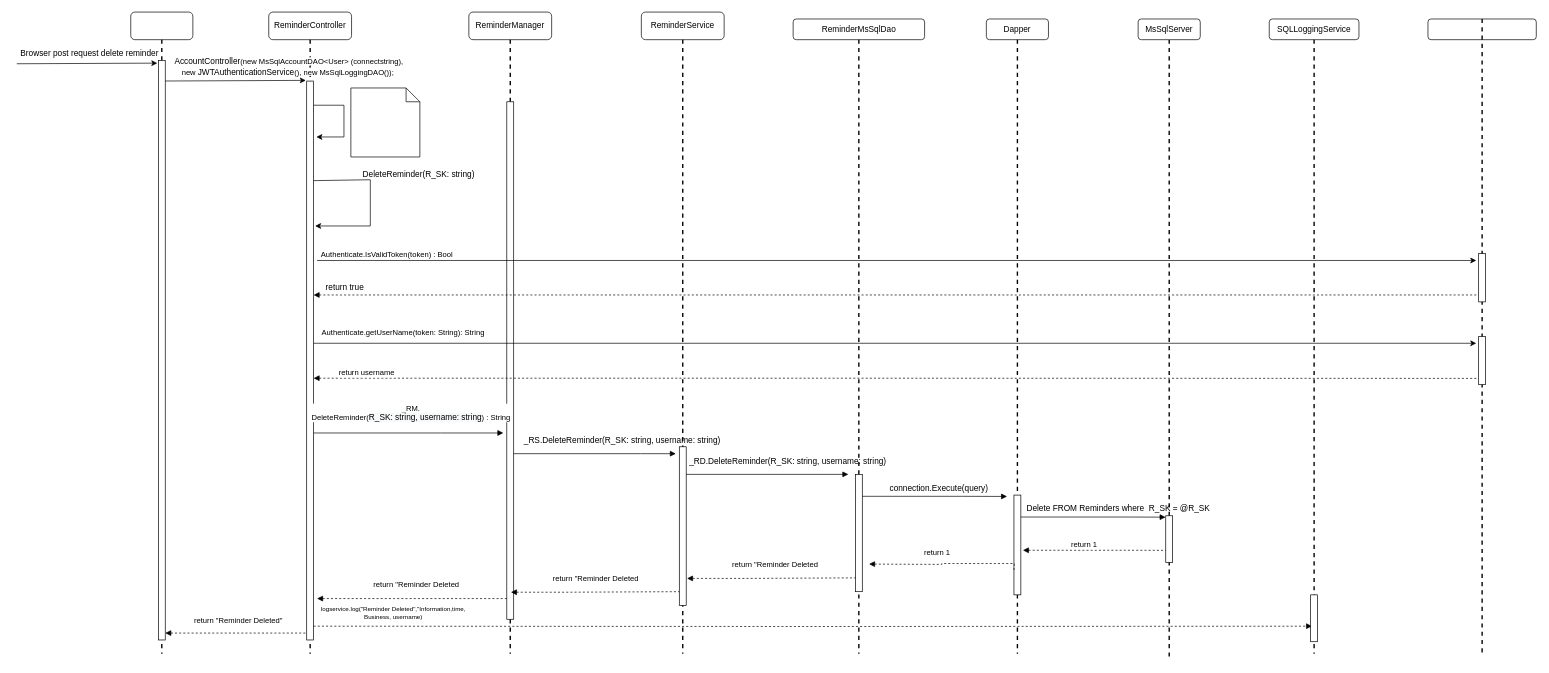
Some shapes in this 1549 by 673 pixel diagram are drawn without their labels. Here are the shapes that lost their labels. From the top down, the centre of each, then its label:
At point (161, 25): "Browser".
At point (1481, 29): "JWTAuthenticationService".
At point (385, 122): "Constructor Dependency Injection".
